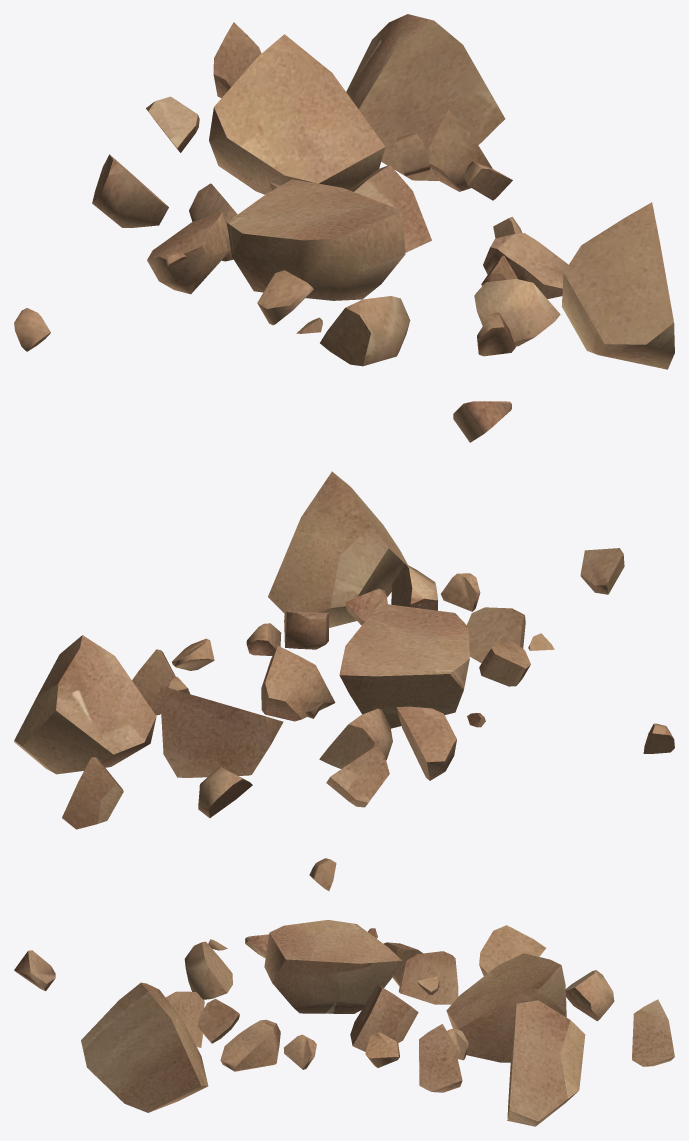
3 views of the same model, one above another, from view 1: azimuth 30°, elevation 25°; view 2: azimuth 150°, elevation 25°; view 3: azimuth 270°, elevation 25° (orthographic). The views are drawn at different scales.
Visible parts, largest first — view 1: body0_model0_lod0_mesh0; view 2: body0_model0_lod0_mesh0; view 3: body0_model0_lod0_mesh0.
Part boxes in pixels (bbox=[...]): body0_model0_lod0_mesh0: bbox=[14, 14, 674, 442]; body0_model0_lod0_mesh0: bbox=[14, 471, 674, 829]; body0_model0_lod0_mesh0: bbox=[14, 858, 674, 1126].
Size of the model in its own units: 199 by 51.82 by 248.
Materials: 1 (1 with a texture image).
